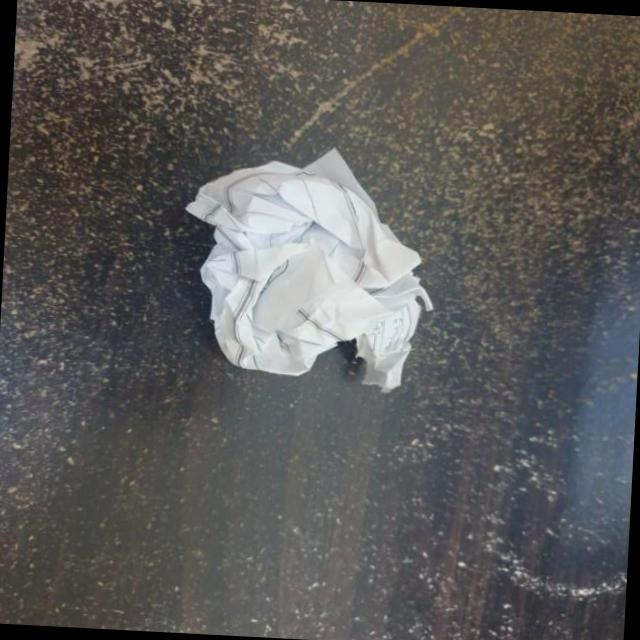cardboard paper: (188, 152, 432, 392)
